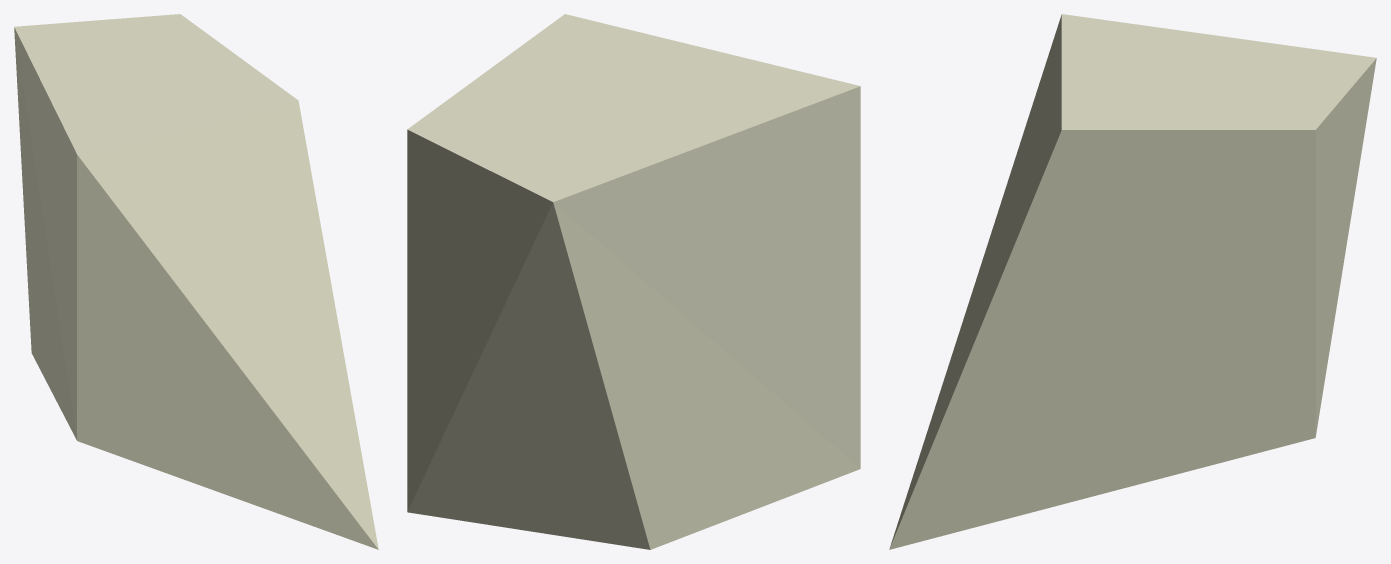
3 views of the same model, side by side, from view 1: azimuth 30°, elevation 25°; view 2: azimuth 150°, elevation 25°; view 3: azimuth 270°, elevation 25° (orthographic). The views are drawn at different scales.
Parts seen in each view (by area): view 1: SketchUp; view 2: SketchUp; view 3: SketchUp.
Boxes of the visible parts, x1=… form: SketchUp: x1=14, y1=14, x2=378, y2=549; SketchUp: x1=407, y1=14, x2=860, y2=549; SketchUp: x1=889, y1=14, x2=1376, y2=549.
Size of the model in its own units: 83.07 by 147 by 140.
